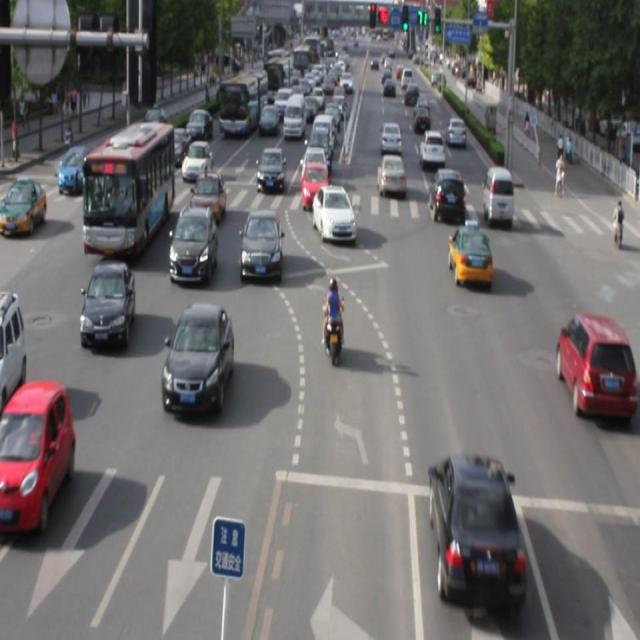car: (429, 452, 522, 610), (0, 380, 72, 539), (554, 312, 640, 420), (162, 302, 233, 418), (81, 260, 134, 350), (167, 205, 217, 288), (241, 210, 282, 282), (448, 222, 492, 286), (310, 188, 357, 246), (431, 167, 464, 224), (190, 173, 226, 224)
truck: (482, 166, 512, 225)
van: (84, 121, 173, 258)
